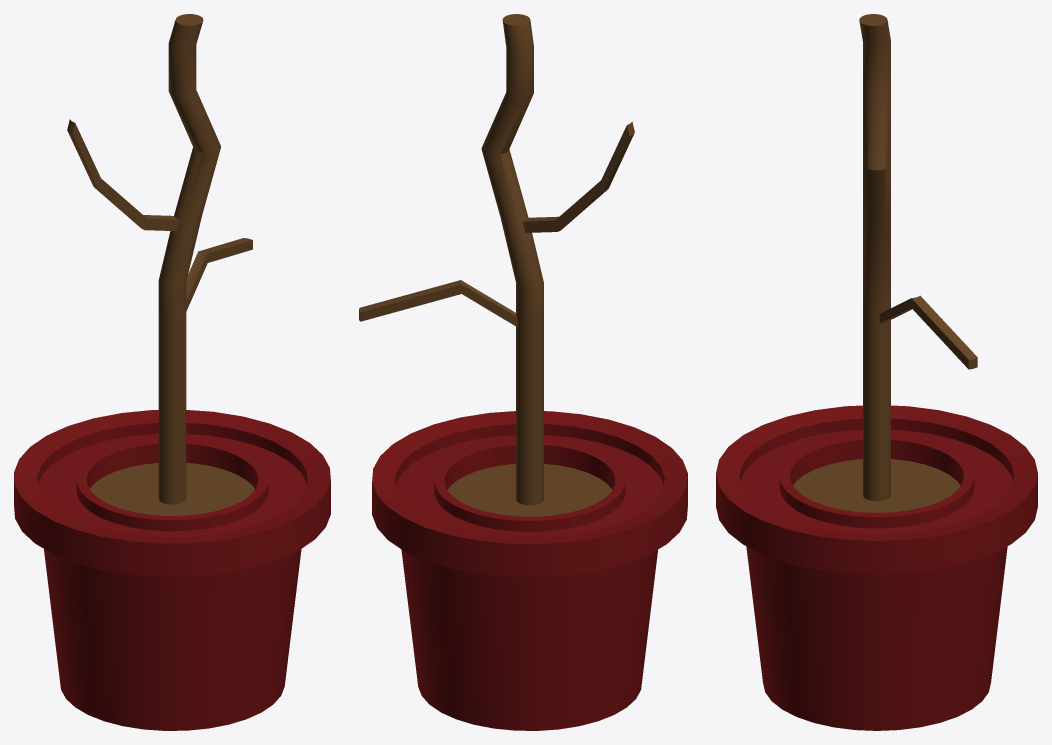
Rendered from plantpot.fbx.
The picture shows the model from 3 angles, left to right: view 1: azimuth 30°, elevation 25°; view 2: azimuth 150°, elevation 25°; view 3: azimuth 270°, elevation 25°; orthographic projection.
Visible parts, largest first — view 1: Cylinder; view 2: Cylinder; view 3: Cylinder.
Part boxes in pixels (left/top/right/bottom): Cylinder: left=14, top=14, right=330, bottom=730; Cylinder: left=359, top=14, right=687, bottom=730; Cylinder: left=716, top=14, right=1037, bottom=730.
Bounding box in the file's own units: 99.99 × 230 × 99.99.
